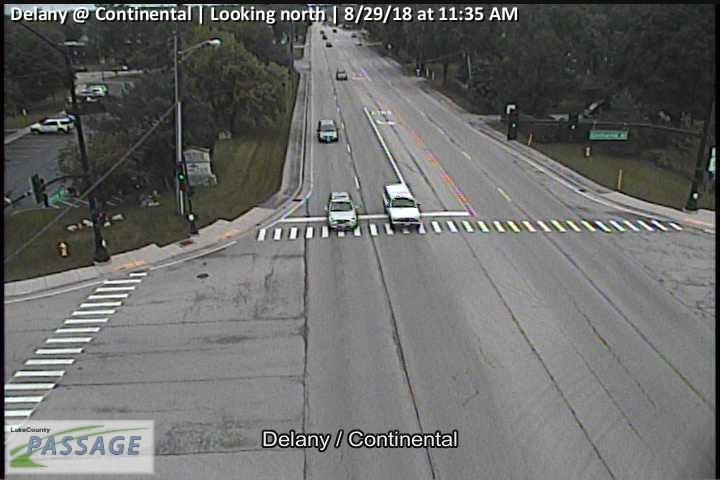SUV: (324, 192, 358, 231), (29, 115, 75, 133)
Sedan: (318, 119, 338, 143), (336, 69, 347, 80)
Truck: (383, 183, 421, 229)
